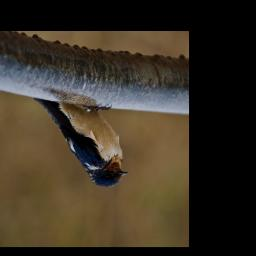Swallow: (34, 97, 129, 188)
